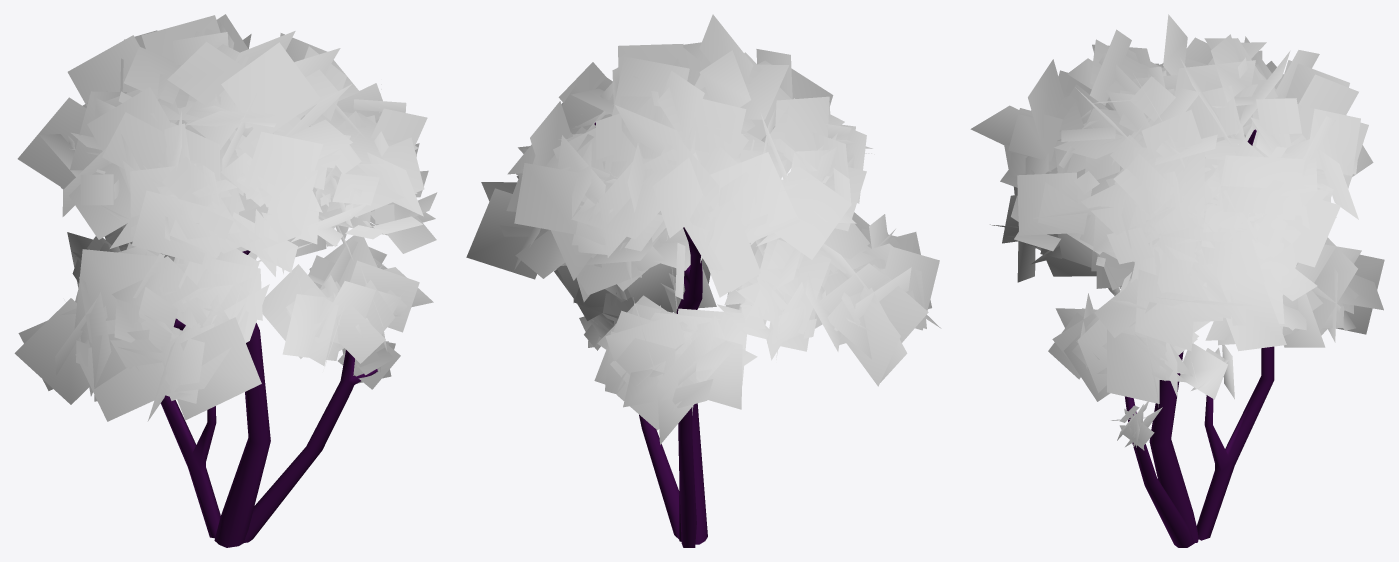
File: m_TreeSmall4_LOD0.fbx
3 renders of one model, left to right at view 1: azimuth 30°, elevation 25°; view 2: azimuth 150°, elevation 25°; view 3: azimuth 270°, elevation 25°, orthographic. The views are drawn at different scales.
Parts seen in each view (by area): view 1: TreeSmall1_LOD0; view 2: TreeSmall1_LOD0; view 3: TreeSmall1_LOD0.
Part boxes in pixels (x1,y1,x2,y2): TreeSmall1_LOD0: (14, 14, 437, 547); TreeSmall1_LOD0: (466, 14, 941, 547); TreeSmall1_LOD0: (970, 14, 1384, 547).
Size of the model in its own units: 1029 by 1202 by 875.
